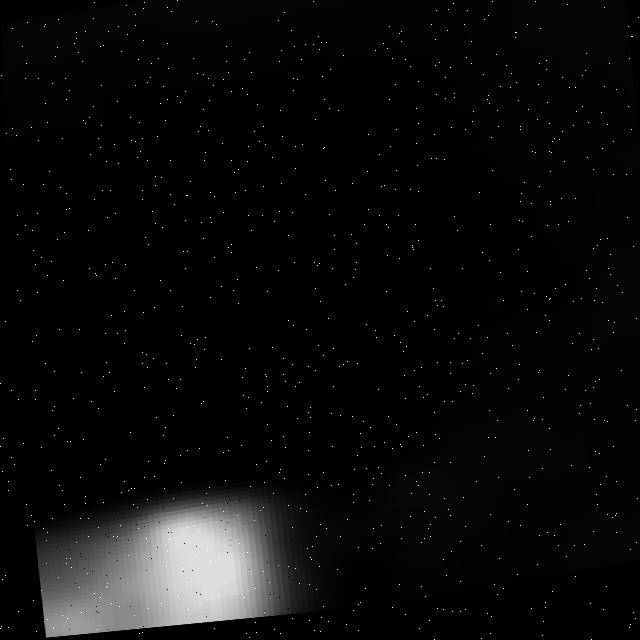person: (27, 464, 339, 640)
